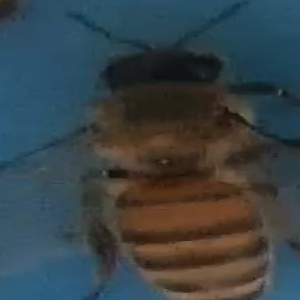bee: (52, 7, 293, 300)
